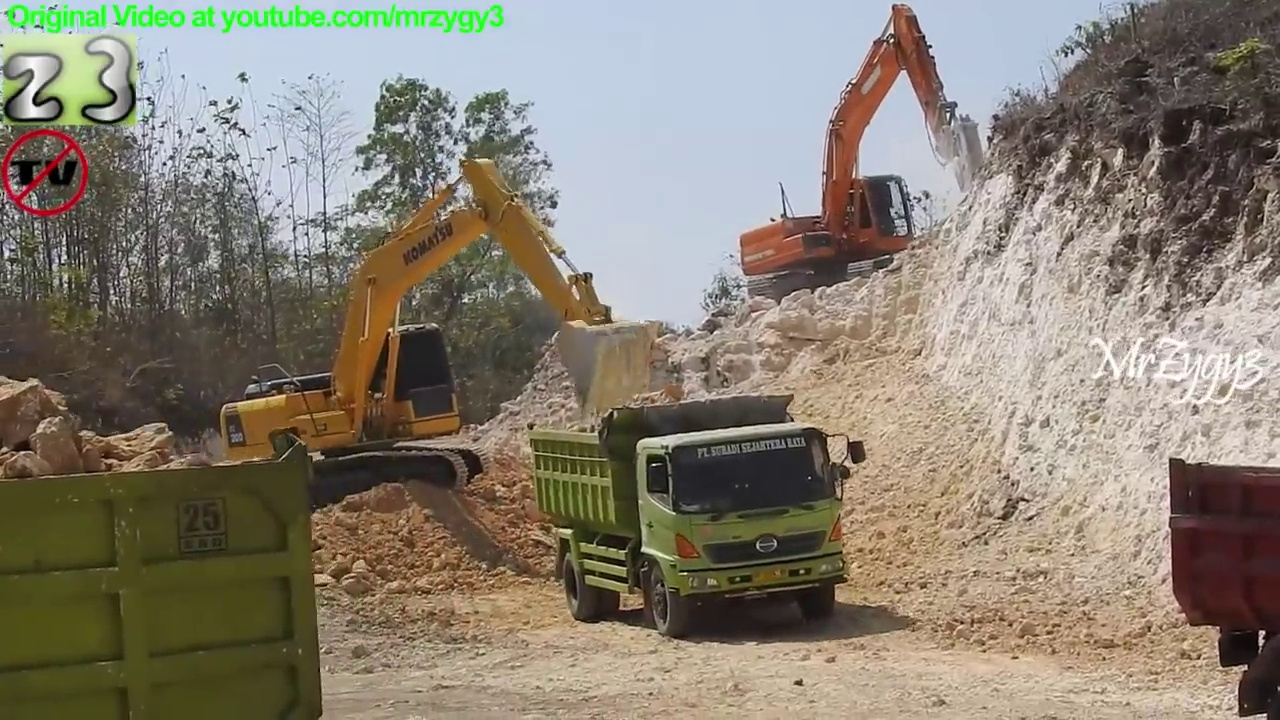excavator: (205, 151, 677, 533), (731, 1, 995, 316)
truck: (1, 434, 334, 720), (526, 388, 874, 643), (1160, 452, 1280, 720)
